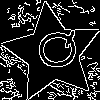Q: (27, 27, 81, 73)
